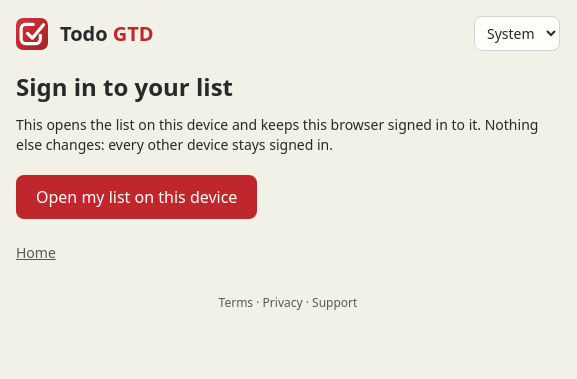
Scenario: SignInPage › says a spent or expired link is no good, and stays put
The image size is (577, 379).
Click the button "Open my list on this device": (137, 197) [16,175,257,219]
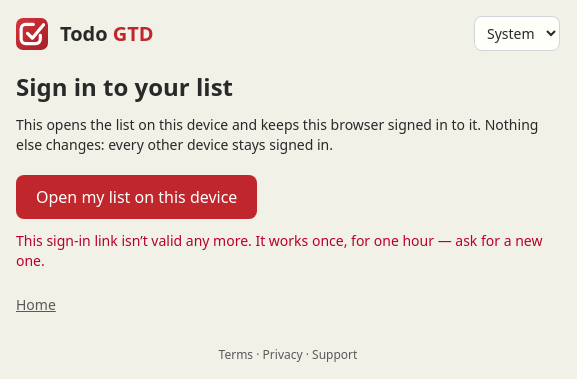
Check: the message shows "works once, for one hour", box [16,231,542,270]
